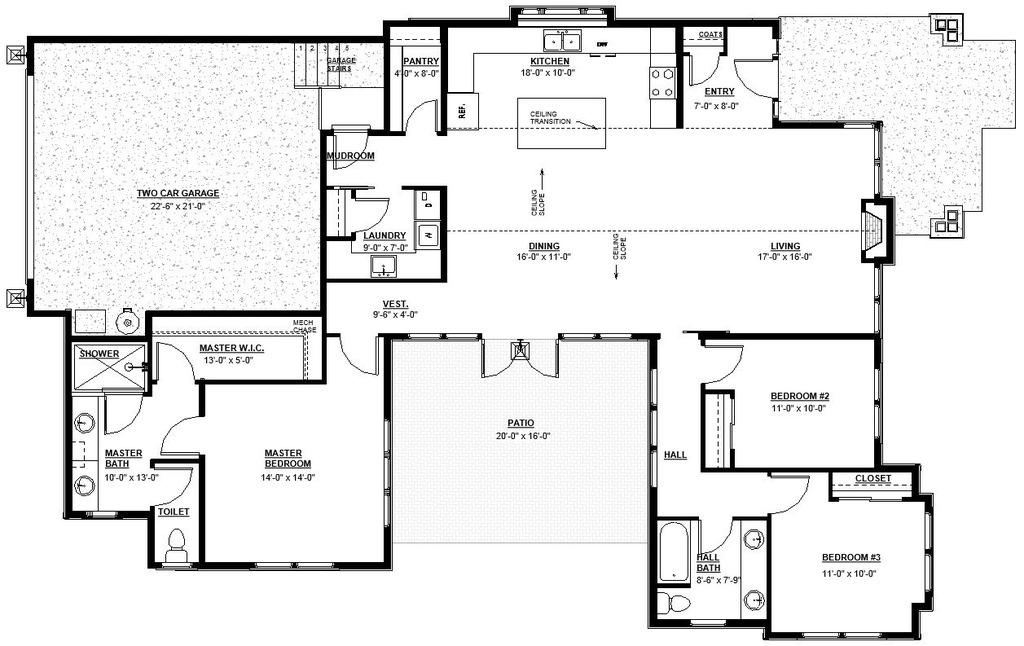door: (479, 331, 565, 381), (327, 327, 382, 376), (760, 472, 820, 515), (693, 334, 742, 383), (733, 52, 778, 105), (342, 187, 391, 235), (154, 415, 204, 461), (330, 119, 373, 171), (101, 390, 148, 435), (151, 342, 199, 385), (148, 465, 194, 506), (688, 49, 726, 88), (698, 517, 731, 561), (405, 95, 438, 138)
large_sink: (654, 585, 706, 621), (162, 525, 190, 563)
small_sink: (740, 523, 771, 620), (63, 398, 102, 448), (65, 469, 101, 501)
stairs: (284, 36, 383, 91)
tub: (650, 516, 692, 581)
twin_sink: (532, 23, 589, 62)
window: (514, 2, 618, 26), (376, 419, 398, 532), (253, 556, 333, 574)
